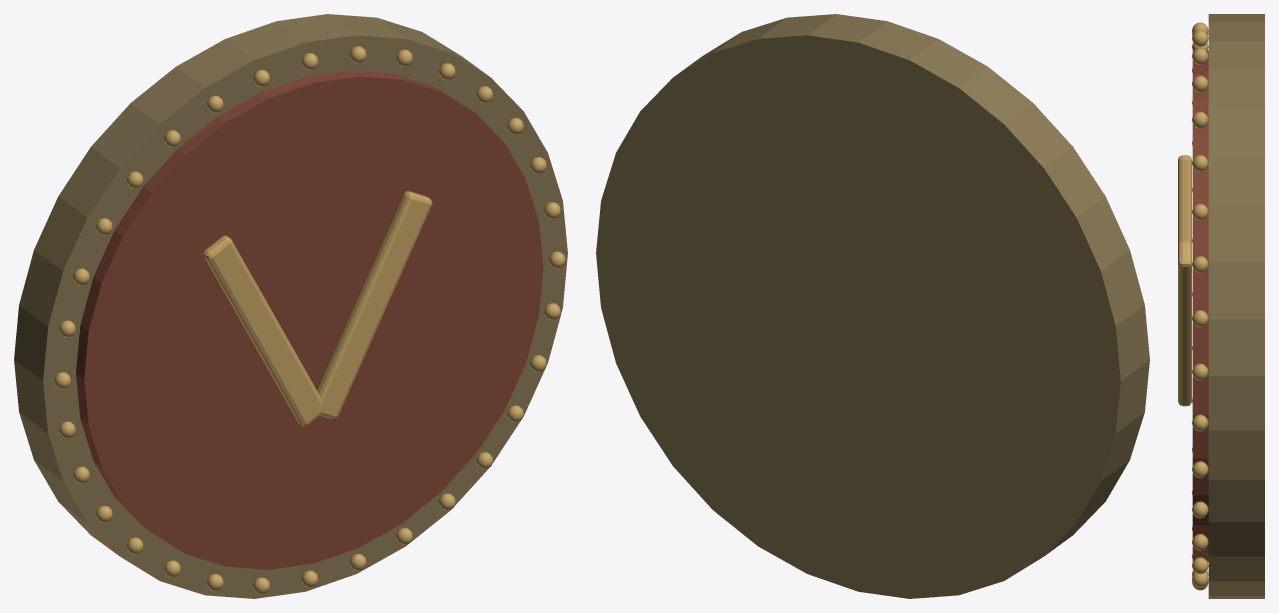
The model's file is shield.glb.
The picture shows the model from 3 angles, left to right: view 1: azimuth 30°, elevation 25°; view 2: azimuth 150°, elevation 25°; view 3: azimuth 270°, elevation 25°; orthographic projection. The views are drawn at different scales.
Visible parts, largest first — view 1: Aspis inset.001, Aspis face.001, Aspis rim stud.032; view 2: Aspis face.001; view 3: Aspis face.001, Aspis rim stud.032, Aspis inset.001.
Boxes of the visible parts, <box> form: Aspis inset.001: <box>76,70,543,569</box>; Aspis face.001: <box>14,14,567,598</box>; Aspis rim stud.032: <box>54,46,565,594</box>; Aspis face.001: <box>596,14,1149,598</box>; Aspis face.001: <box>1208,14,1264,598</box>; Aspis rim stud.032: <box>1178,22,1208,590</box>; Aspis inset.001: <box>1192,50,1208,562</box>.
Bounding box in the file's own units: 1.04 × 1.04 × 0.1545.
